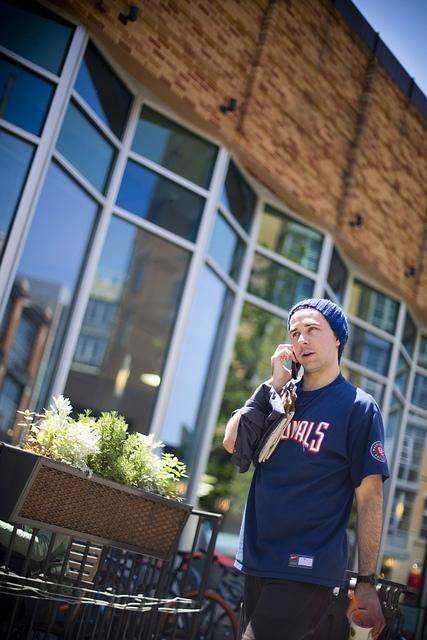bicycle: (158, 590, 241, 640)
